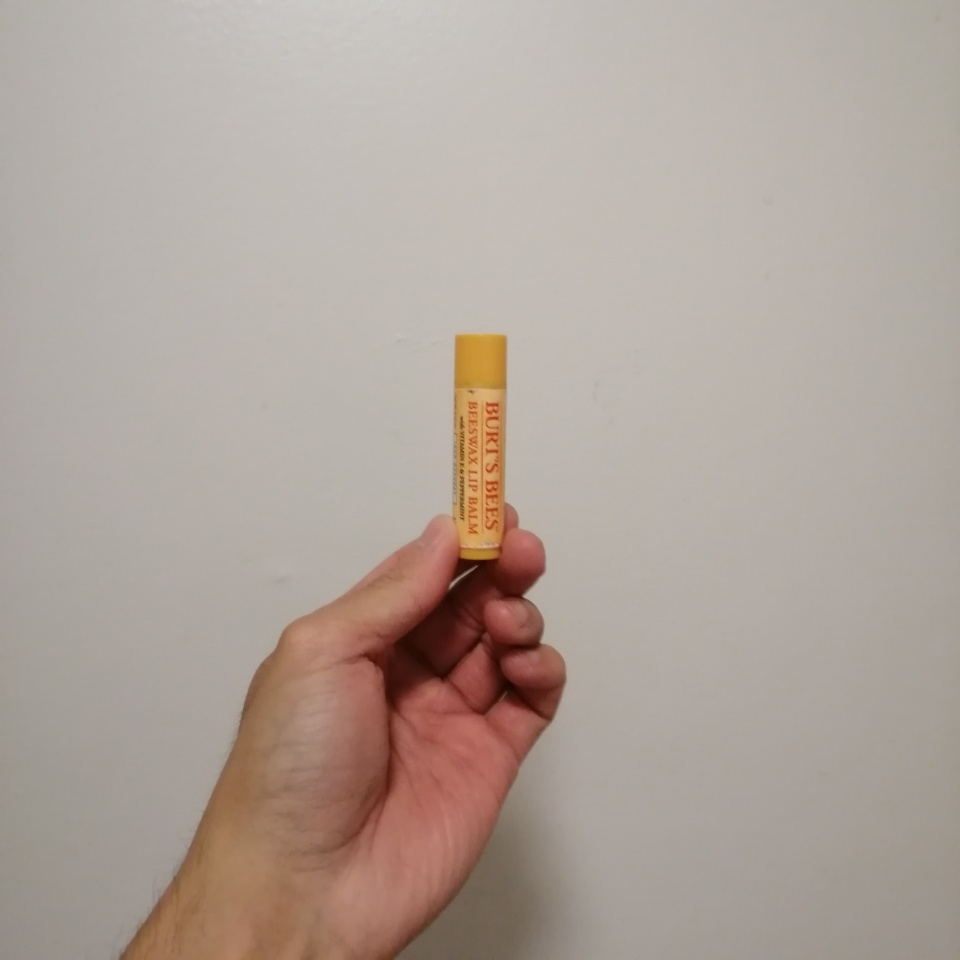chapstick: (453, 332, 509, 560)
